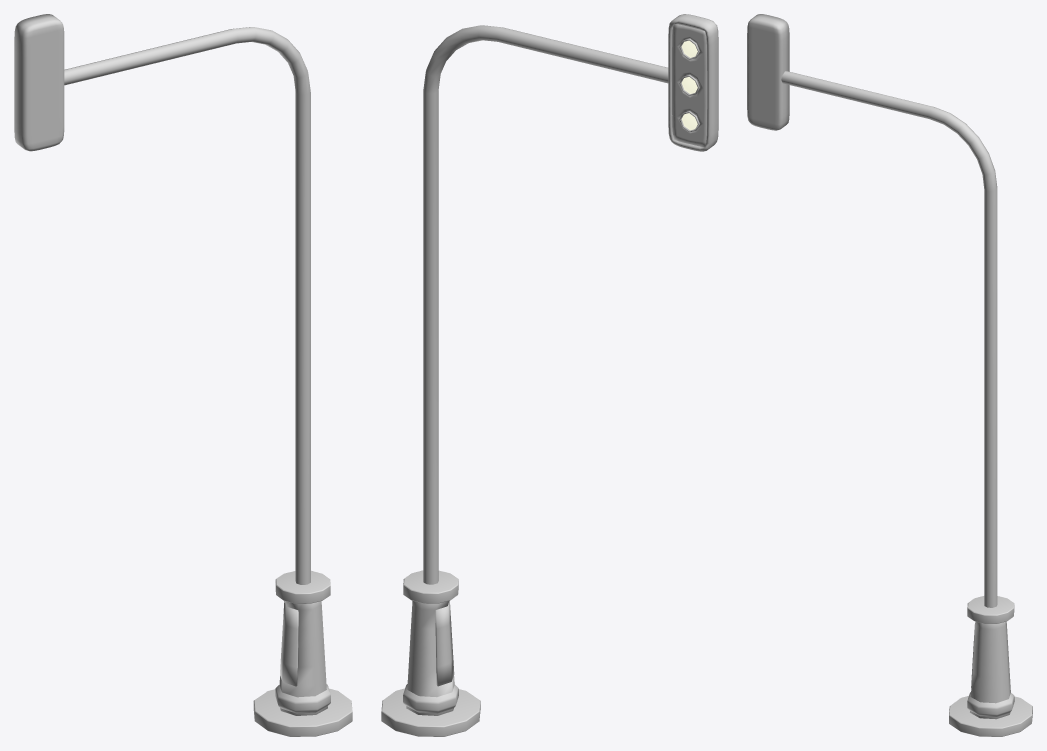
File: traffic_light1.fbx
3 renders of one model, left to right at view 1: azimuth 30°, elevation 25°; view 2: azimuth 150°, elevation 25°; view 3: azimuth 330°, elevation 25°, orthographic. The views are drawn at different scales.
Parts seen in each view (by area): view 1: TrafficLight.001; view 2: TrafficLight.001; view 3: TrafficLight.001.
Boxes of the visible parts, left/top/right/bottom form: TrafficLight.001: left=14, top=14, right=352, bottom=736; TrafficLight.001: left=381, top=14, right=718, bottom=736; TrafficLight.001: left=747, top=14, right=1032, bottom=736.
Bounding box in the file's own units: 235 × 525 × 60.67.
